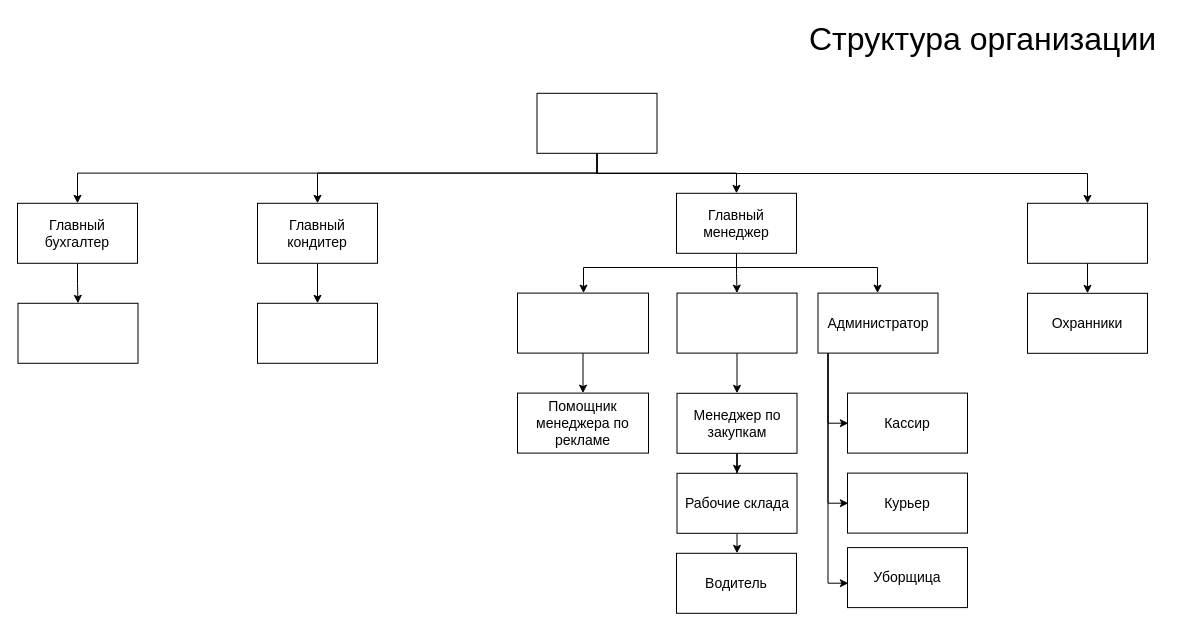
Some shapes in this 1185 by 631 pixel diagram are drawn without their labels. Each missing label, with the box of its shape:
Бухгалтер: (17, 302, 138, 363)
Директор: (536, 92, 657, 153)
Заведующий складом: (676, 292, 797, 353)
Менеджер по рекламе: (516, 292, 648, 353)
Начальник службы охраны: (1026, 202, 1148, 263)
Повора: (256, 302, 378, 363)
